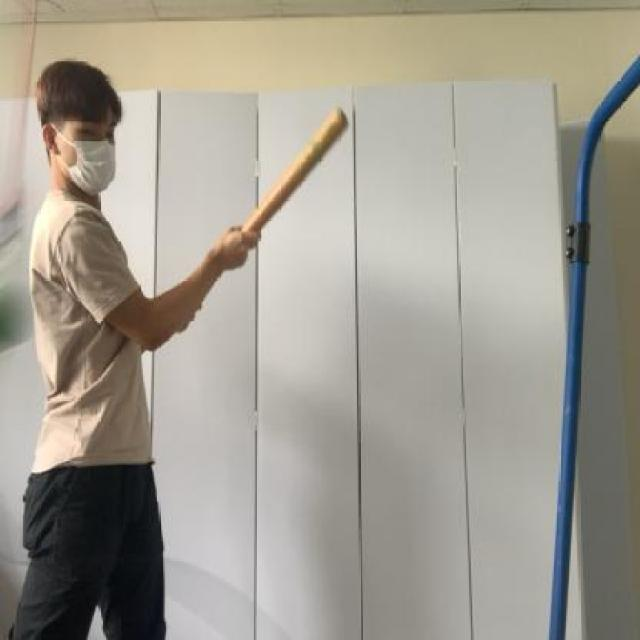baseball: (0, 269, 60, 351)
